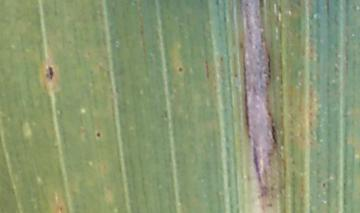tarspot: (45, 66, 54, 80), (95, 131, 102, 138), (321, 181, 327, 188), (178, 67, 183, 72)
